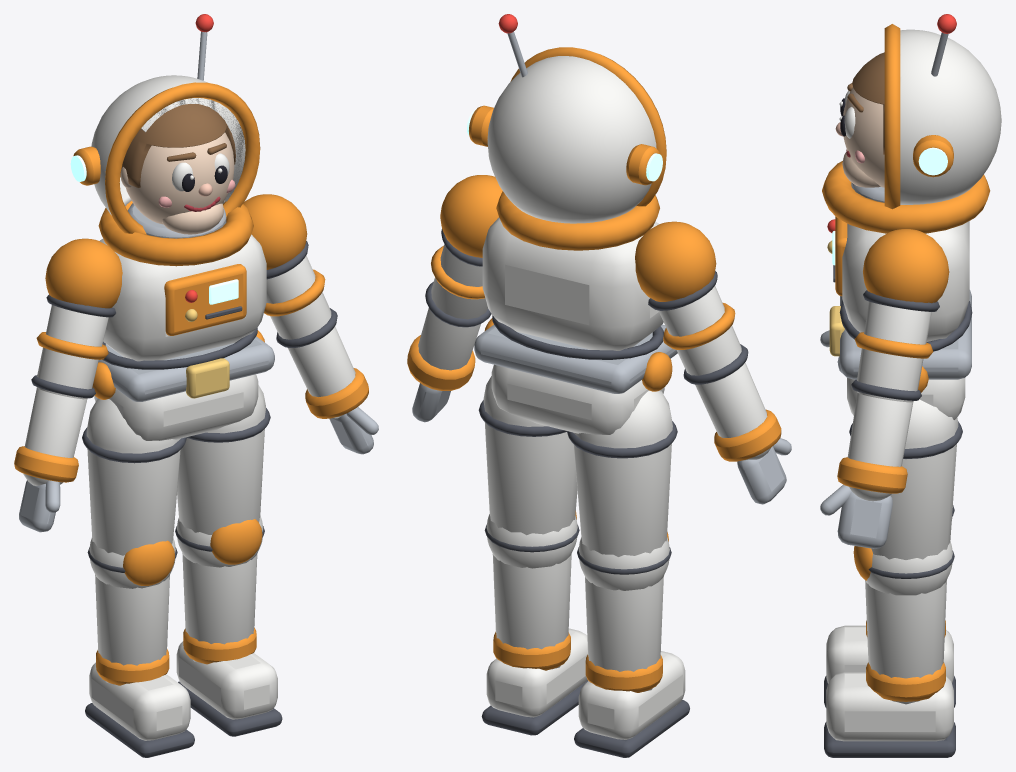
The model's file is Astronot.fbx.
3 views of the same model, side by side, from view 1: azimuth 30°, elevation 25°; view 2: azimuth 150°, elevation 25°; view 3: azimuth 270°, elevation 25° (orthographic). The views are drawn at different scales.
Parts seen in each view (by area): view 1: UpperTorso__R_FFA238_7, RightUpperLeg__R_F7F7F5_43, UpperTorso__R_F7F7F5_6, LeftUpperLeg__R_F7F7F5_36, RightLowerLeg__R_F7F7F5_45, LeftLowerLeg__R_F7F7F5_38, Head__R_FFA238_13, Head__R_FDE2CB_17, LowerTorso__R_F7F7F5_1, LeftFoot__R_F7F7F5_41, RightFoot__R_F7F7F5_48, Head__R_F7F7F5_12 (+25 smaller); view 2: Head__R_F7F7F5_12, UpperTorso__R_F7F7F5_6, UpperTorso__R_FFA238_7, RightUpperLeg__R_F7F7F5_43, LeftUpperLeg__R_F7F7F5_36, RightLowerLeg__R_F7F7F5_45, LeftLowerLeg__R_F7F7F5_38, LowerTorso__R_F7F7F5_1, LowerTorso__R_BCC2CB_3, RightFoot__R_F7F7F5_48, LeftFoot__R_F7F7F5_41, Head__R_FFA238_13 (+18 smaller); view 3: Head__R_F7F7F5_12, UpperTorso__R_FFA238_7, LeftLowerLeg__R_F7F7F5_38, LeftUpperLeg__R_F7F7F5_36, LeftFoot__R_F7F7F5_41, UpperTorso__R_F7F7F5_6, LeftUpperArm__R_F7F7F5_25, LeftLowerArm__R_F7F7F5_27, Head__R_FFA238_13, Head__R_FDE2CB_17, LeftHand__R_BCC2CB_29, LowerTorso__R_BCC2CB_3 (+16 smaller).
Boxes of the visible parts, left/top/right/bottom form: UpperTorso__R_FFA238_7: left=45, top=194, right=307, bottom=335; RightUpperLeg__R_F7F7F5_43: left=86, top=399, right=180, bottom=555; UpperTorso__R_F7F7F5_6: left=100, top=234, right=266, bottom=361; LeftUpperLeg__R_F7F7F5_36: left=177, top=385, right=265, bottom=534; RightLowerLeg__R_F7F7F5_45: left=89, top=538, right=175, bottom=684; LeftLowerLeg__R_F7F7F5_38: left=176, top=516, right=263, bottom=663; Head__R_FFA238_13: left=73, top=82, right=260, bottom=234; Head__R_FDE2CB_17: left=120, top=132, right=234, bottom=234; LowerTorso__R_F7F7F5_1: left=94, top=374, right=258, bottom=440; LeftFoot__R_F7F7F5_41: left=176, top=641, right=277, bottom=719; RightFoot__R_F7F7F5_48: left=89, top=662, right=190, bottom=740; Head__R_F7F7F5_12: left=91, top=75, right=245, bottom=215; Head__R_F7F7F5_12: left=487, top=56, right=656, bottom=223; UpperTorso__R_F7F7F5_6: left=482, top=217, right=663, bottom=350; UpperTorso__R_FFA238_7: left=440, top=175, right=716, bottom=301; RightUpperLeg__R_F7F7F5_43: left=573, top=390, right=672, bottom=556; LeftUpperLeg__R_F7F7F5_36: left=483, top=376, right=577, bottom=535; RightLowerLeg__R_F7F7F5_45: left=578, top=537, right=669, bottom=691; LeftLowerLeg__R_F7F7F5_38: left=486, top=514, right=577, bottom=669; LowerTorso__R_F7F7F5_1: left=491, top=364, right=664, bottom=434; LowerTorso__R_BCC2CB_3: left=474, top=324, right=677, bottom=393; RightFoot__R_F7F7F5_48: left=578, top=651, right=685, bottom=739; LeftFoot__R_F7F7F5_41: left=486, top=628, right=587, bottom=717; Head__R_FFA238_13: left=469, top=47, right=666, bottom=206; Head__R_F7F7F5_12: left=900, top=29, right=1001, bottom=204; UpperTorso__R_FFA238_7: left=822, top=161, right=990, bottom=303; LeftLowerLeg__R_F7F7F5_38: left=865, top=541, right=952, bottom=704; LeftUpperLeg__R_F7F7F5_36: left=871, top=399, right=958, bottom=559; LeftFoot__R_F7F7F5_41: left=826, top=672, right=953, bottom=741; UpperTorso__R_F7F7F5_6: left=842, top=221, right=969, bottom=341; LeftUpperArm__R_F7F7F5_25: left=857, top=301, right=931, bottom=402; LeftLowerArm__R_F7F7F5_27: left=847, top=393, right=913, bottom=501; Head__R_FFA238_13: left=884, top=24, right=953, bottom=209; Head__R_FDE2CB_17: left=842, top=87, right=884, bottom=187; LeftHand__R_BCC2CB_29: left=820, top=484, right=892, bottom=548; LowerTorso__R_BCC2CB_3: left=840, top=290, right=971, bottom=379.
Size of the model in its own units: 295 by 550 by 123.
